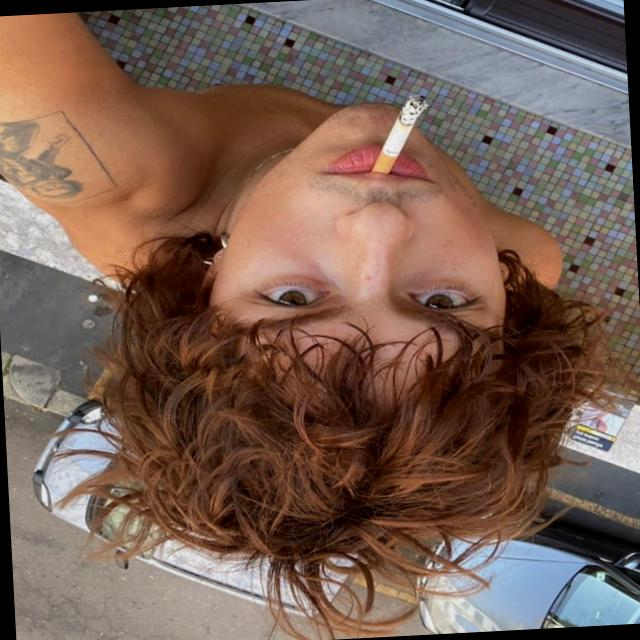cigarette: (340, 64, 458, 202)
